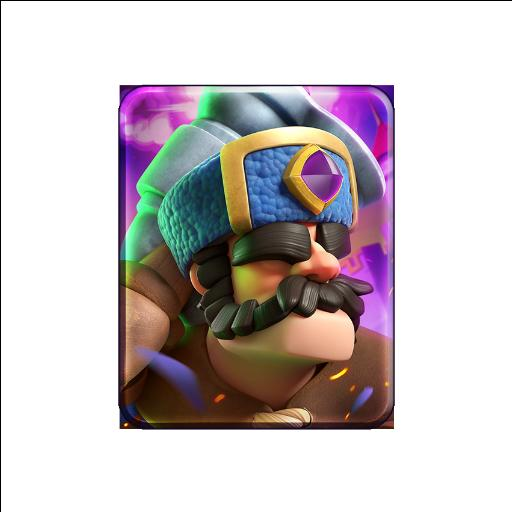hunter-evo: (126, 92, 386, 422)
